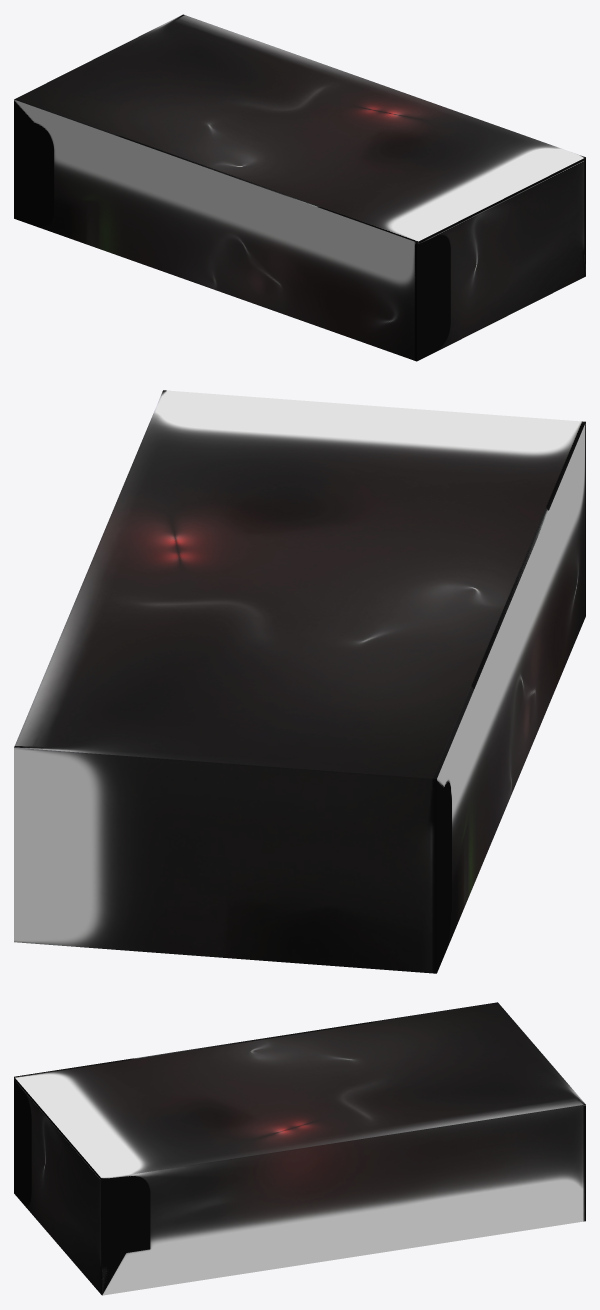
Rendered from caixa red.glb.
3 views of the same model, one above another, from view 1: azimuth 30°, elevation 25°; view 2: azimuth 150°, elevation 25°; view 3: azimuth 270°, elevation 25° (orthographic). The views are drawn at different scales.
Parts seen in each view (by area): view 1: CAIXA TUDO, ABAS; view 2: CAIXA TUDO, ABAS; view 3: CAIXA TUDO, ABAS.
Boxes of the visible parts, x1,y1,x2,y2 form: CAIXA TUDO: (14, 14, 585, 360); ABAS: (14, 98, 585, 361); CAIXA TUDO: (14, 390, 585, 973); ABAS: (432, 426, 585, 778); CAIXA TUDO: (14, 1003, 585, 1295); ABAS: (14, 1002, 585, 1295).
Bounding box in the file's own units: 264 × 81.25 × 361.
21 materials, 17 textured.
